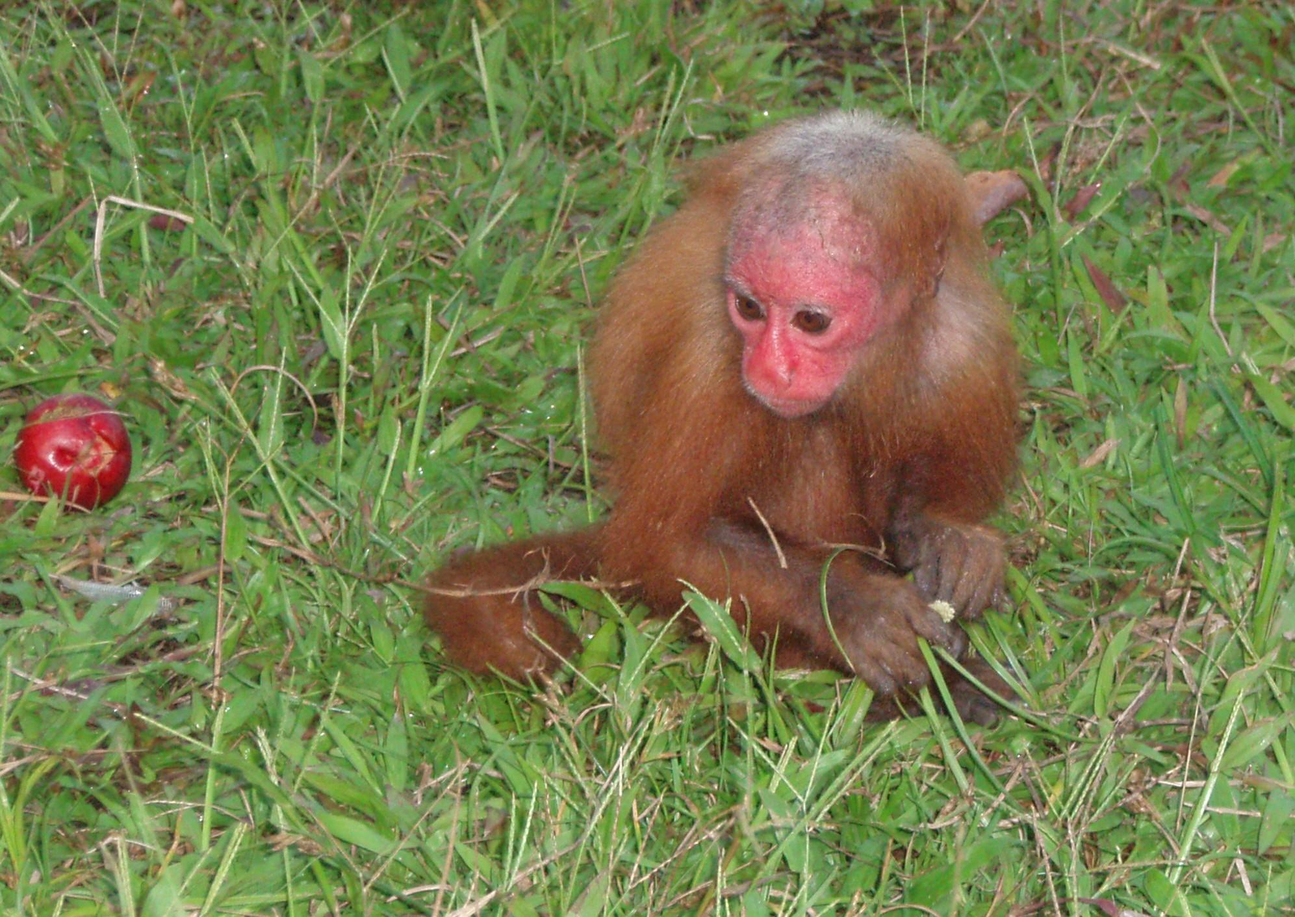monkey: (421, 111, 1029, 721)
